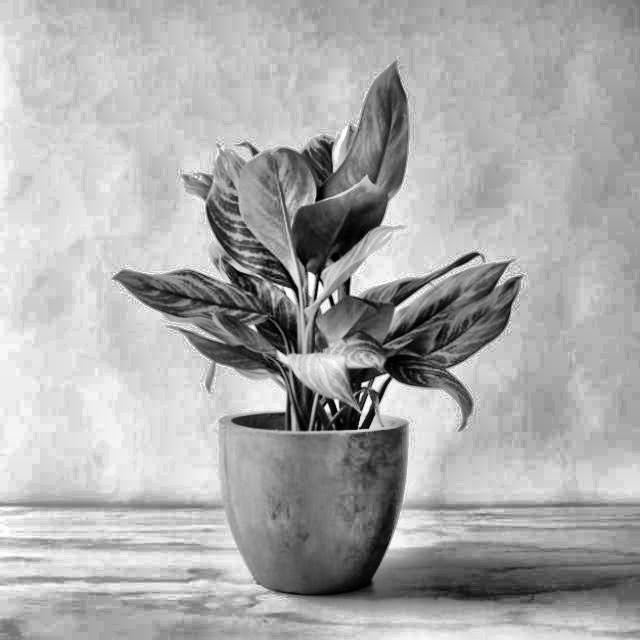plants: (147, 114, 496, 421)
